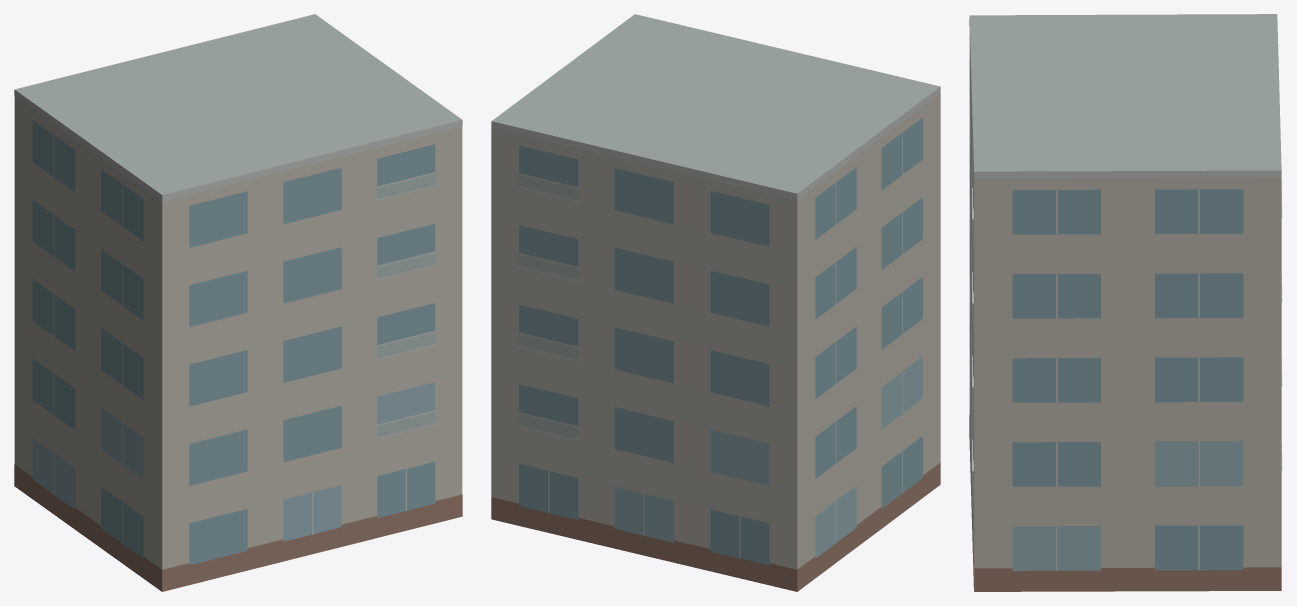
The model's file is survey-upis-32537786.glb.
The picture shows the model from 3 angles, left to right: view 1: azimuth 30°, elevation 25°; view 2: azimuth 150°, elevation 25°; view 3: azimuth 270°, elevation 25°; orthographic projection. The views are drawn at different scales.
Parts seen in each view (by area): view 1: survey-upis-32537786.tmp; view 2: survey-upis-32537786.tmp; view 3: survey-upis-32537786.tmp.
Boxes of the visible parts, bbox=[...] form: survey-upis-32537786.tmp: bbox=[14, 14, 462, 591]; survey-upis-32537786.tmp: bbox=[491, 14, 940, 591]; survey-upis-32537786.tmp: bbox=[969, 14, 1282, 591].
Size of the model in its own units: 11.43 by 14.2 by 9.59.
